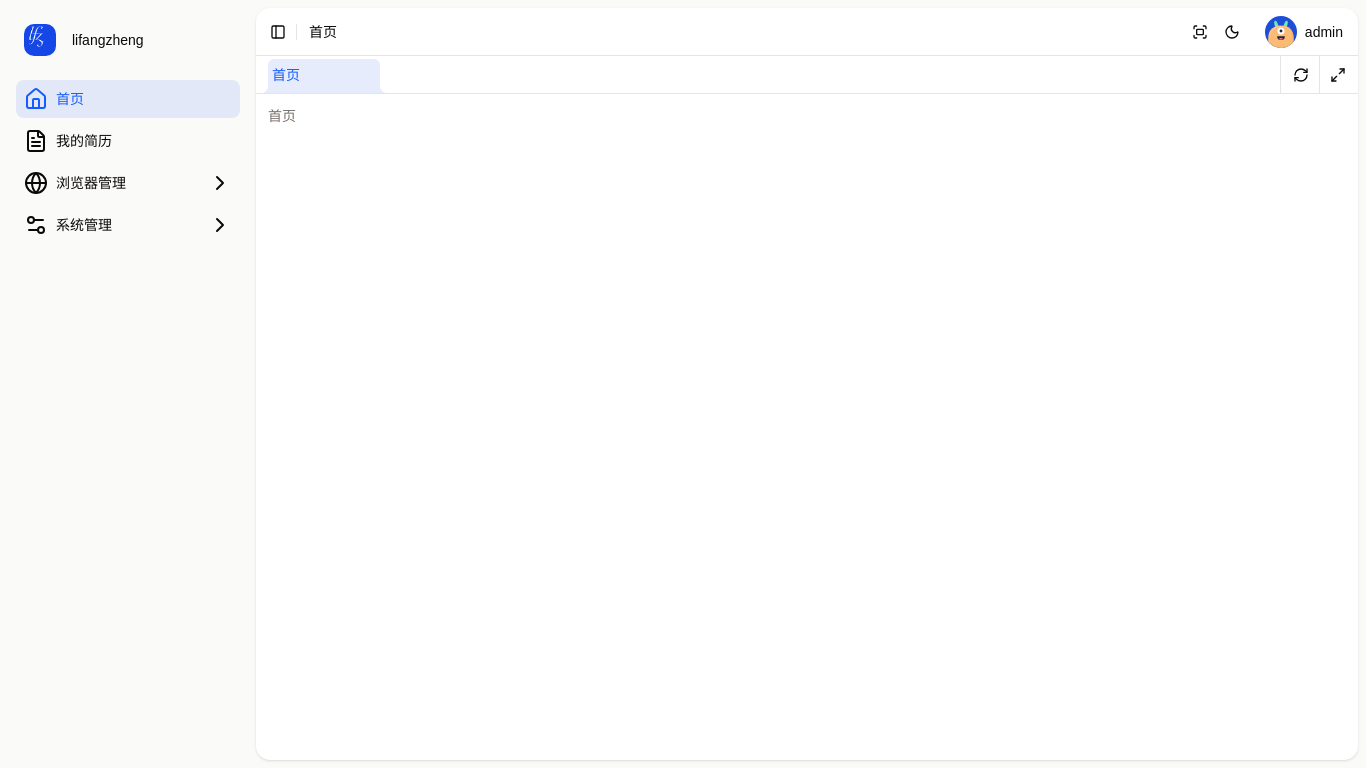
Test case: Header › 点击修改密码进入复用登录页密码重置的表单
Expected: the button named "全屏" is shown, [1186,18,1214,46]
What coordinates should you click on to do the following:
click the button "admin"
I would click on:
 (1304, 32)
Its box is [1258,14,1350,50].
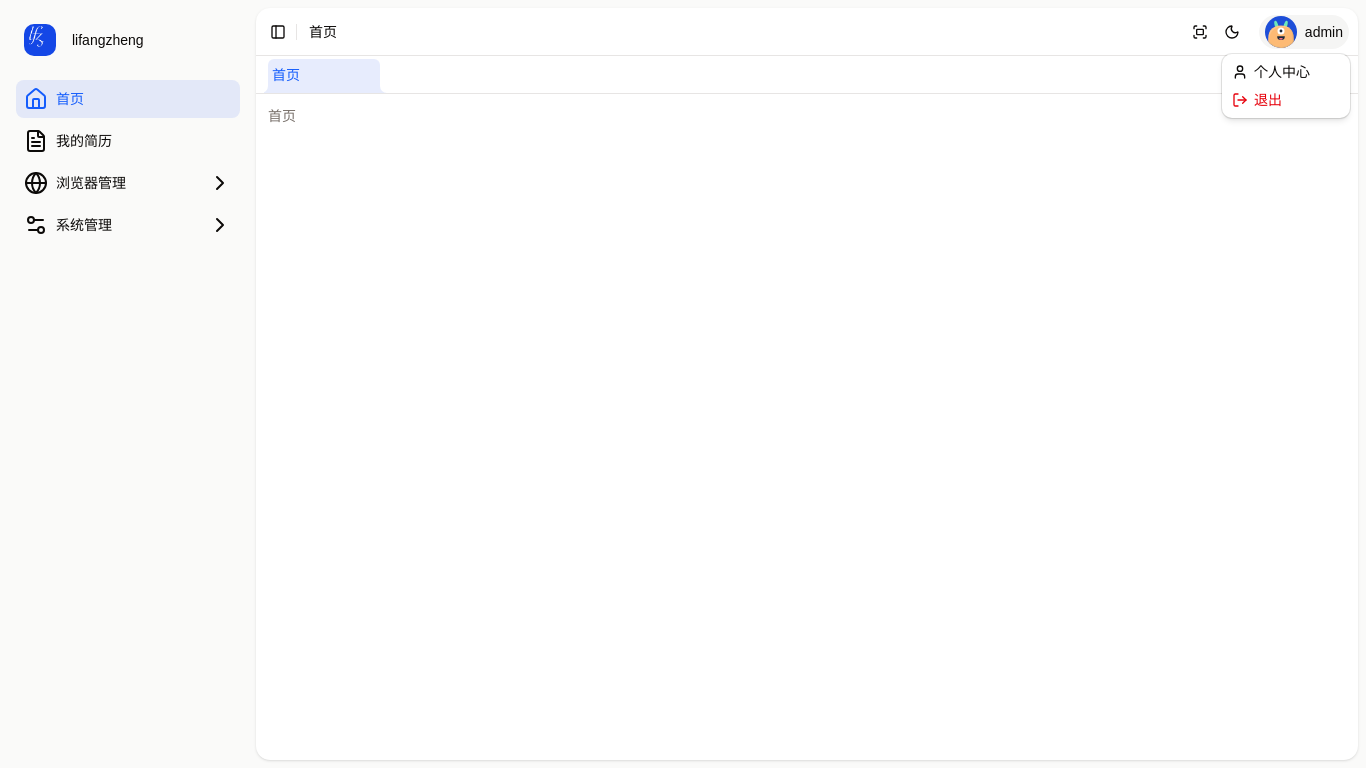
What coordinates should you click on to do the following:
click the menu item "个人中心"
I would click on:
 (1271, 72)
Its box is [1232,64,1310,80].
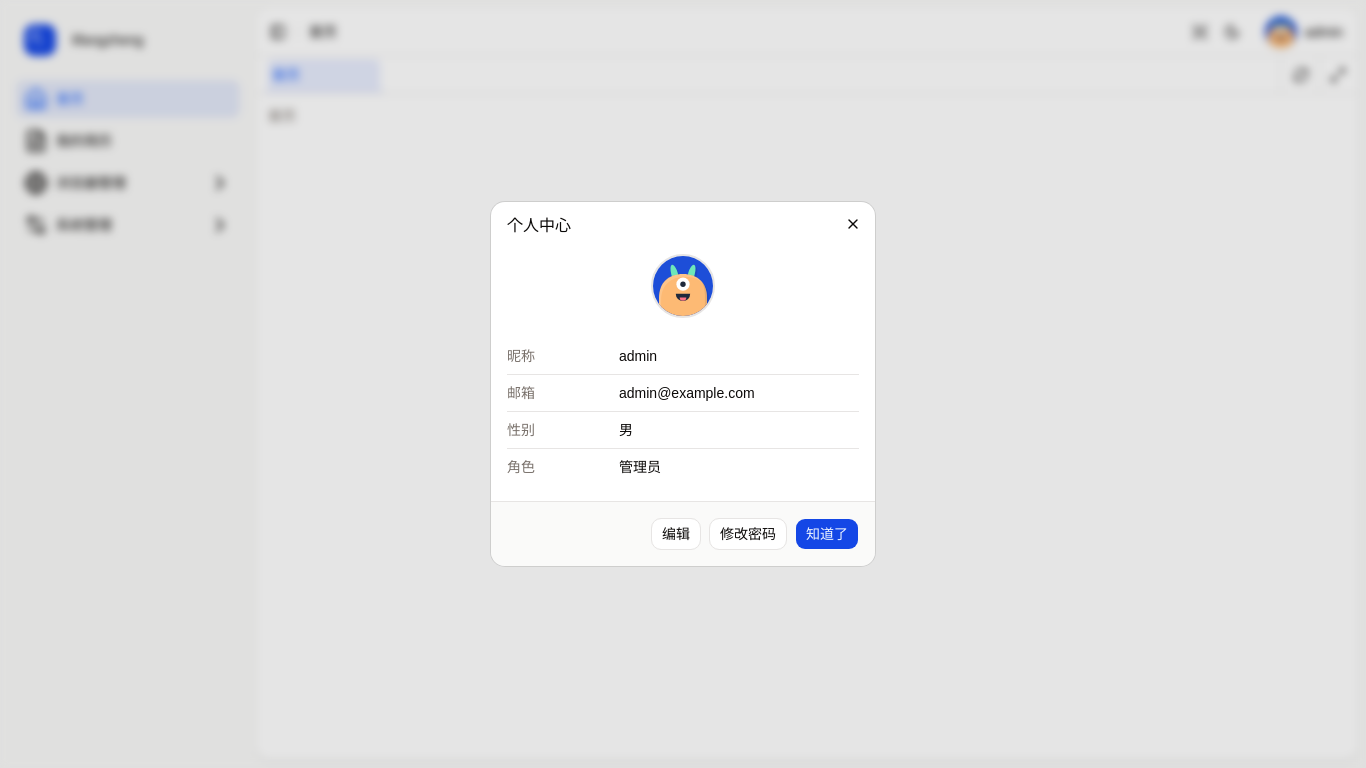
What coordinates should you click on to do the following:
click the button "修改密码"
I would click on:
 (748, 534)
Its box is [709,518,787,550].
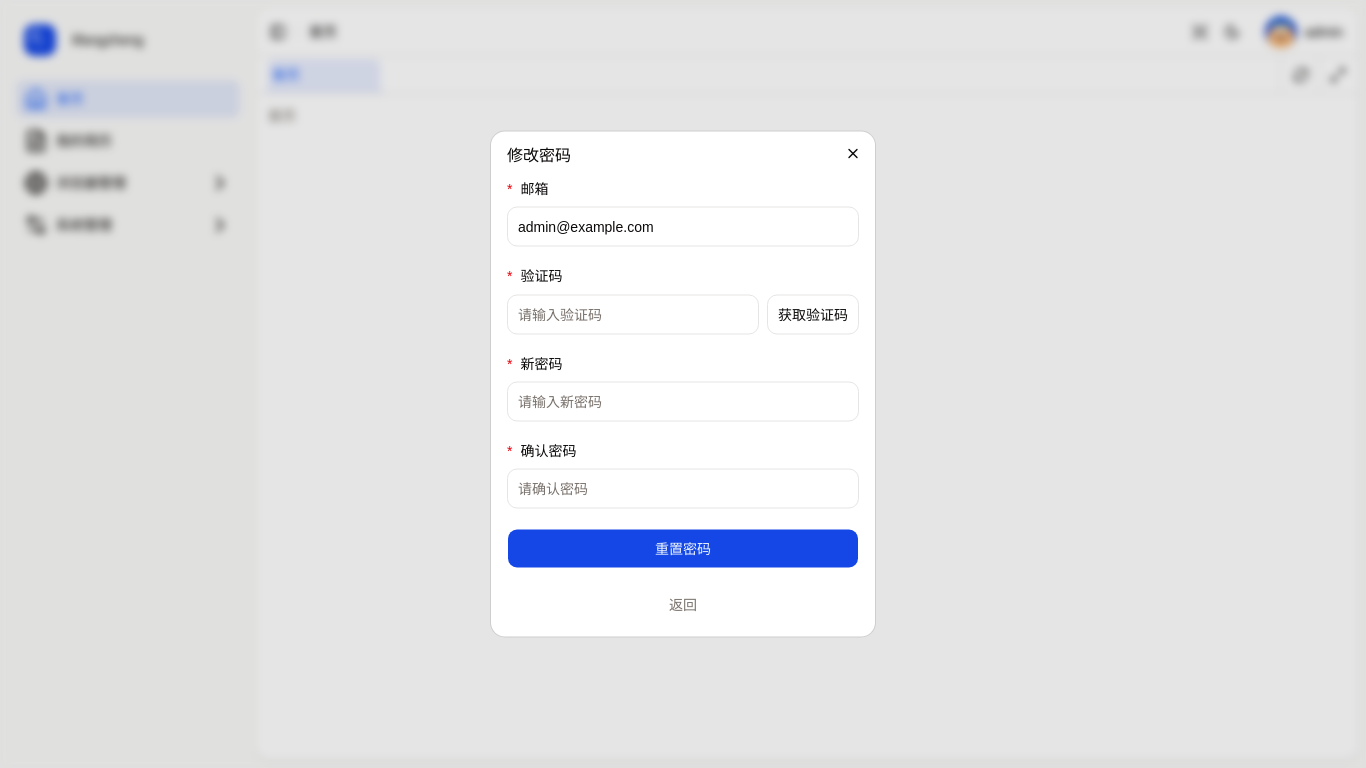
Expected: the dialog shows "修改密码", [507,146,571,164]
Expected: the field labelled "* 邮箱" holds "admin@example.com", [507,207,859,247]
Expected: the password field labelled "* 新密码" is shown, [507,381,859,421]
